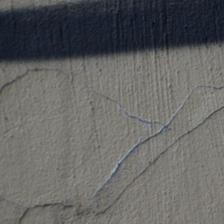Crack: (98, 106, 223, 217), (102, 85, 221, 191), (91, 89, 163, 127), (3, 64, 73, 94), (18, 200, 72, 221)
